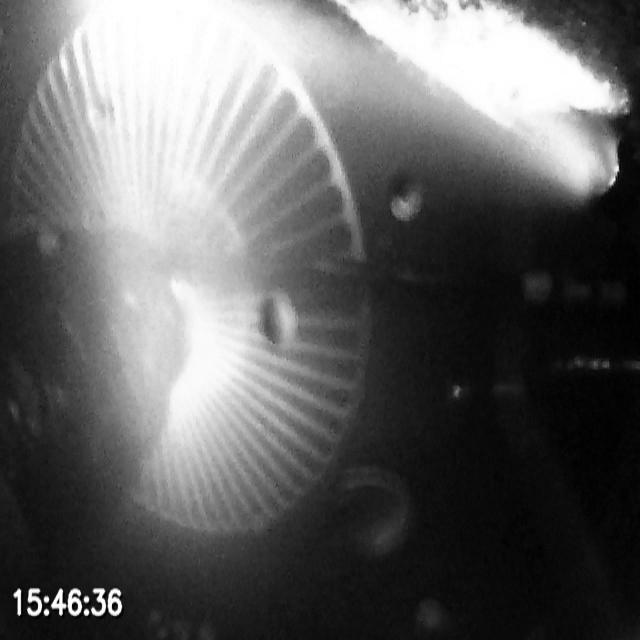white-dots: (520, 270, 628, 310)
